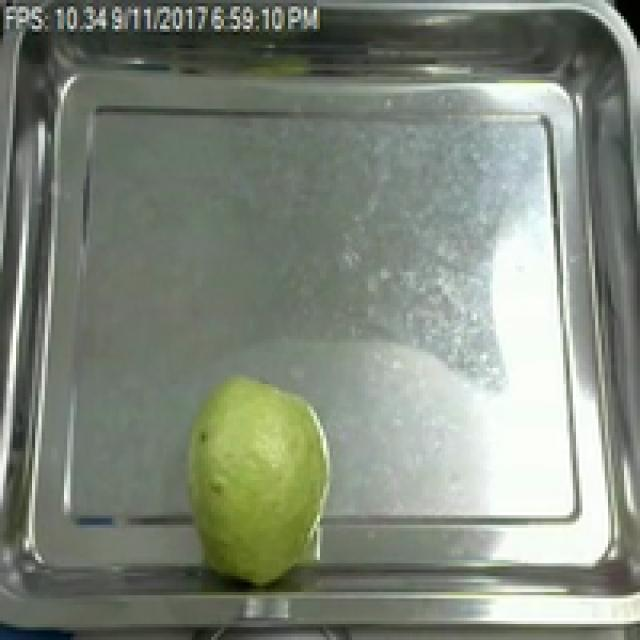Fruit: (170, 365, 342, 595)
